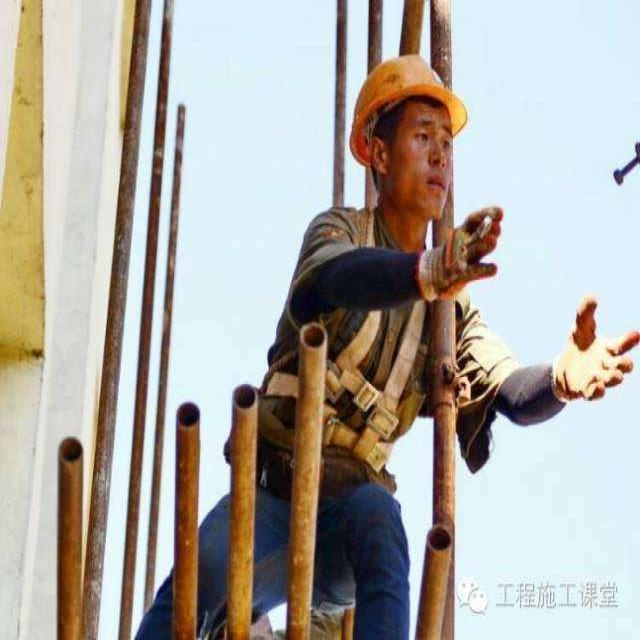Arnes_seguridad: (324, 210, 437, 478)
